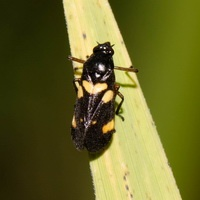insect: (69, 42, 136, 152)
